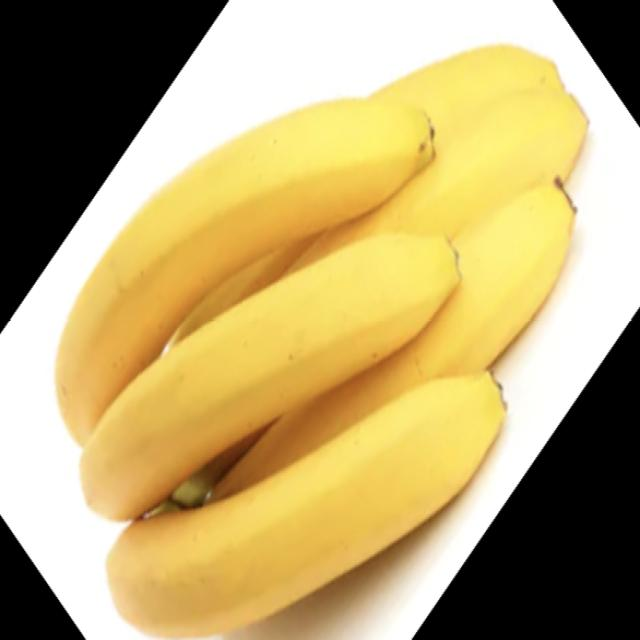god quality banana: (56, 46, 589, 636)
